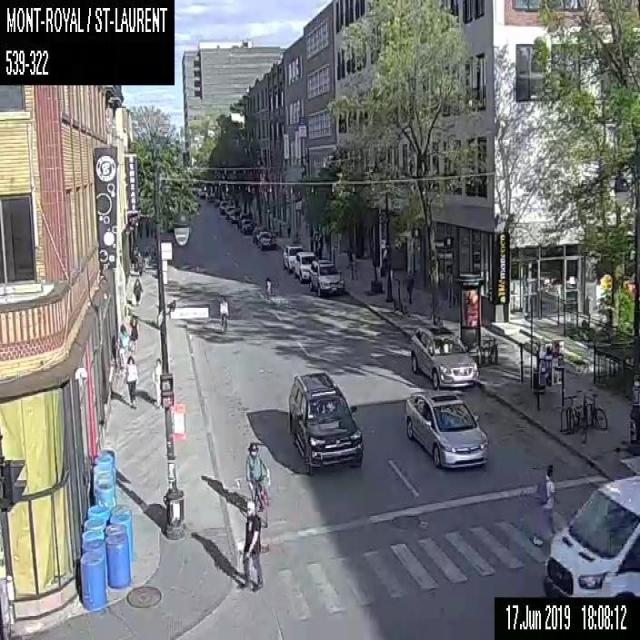cyclist: (244, 440, 270, 502), (217, 296, 228, 333)
pedestrian: (240, 501, 265, 589), (532, 463, 554, 544), (125, 354, 137, 408), (150, 356, 161, 408), (116, 322, 128, 367), (129, 316, 140, 352), (348, 244, 357, 277), (406, 269, 414, 304), (133, 277, 142, 303), (264, 275, 271, 301), (136, 250, 143, 276)
vehicle: (543, 475, 639, 596), (287, 371, 364, 470), (402, 388, 488, 470), (408, 324, 481, 384), (308, 262, 345, 297), (294, 250, 316, 280), (283, 243, 304, 270), (257, 230, 277, 250), (251, 225, 265, 243), (241, 218, 253, 235), (219, 200, 228, 213)
